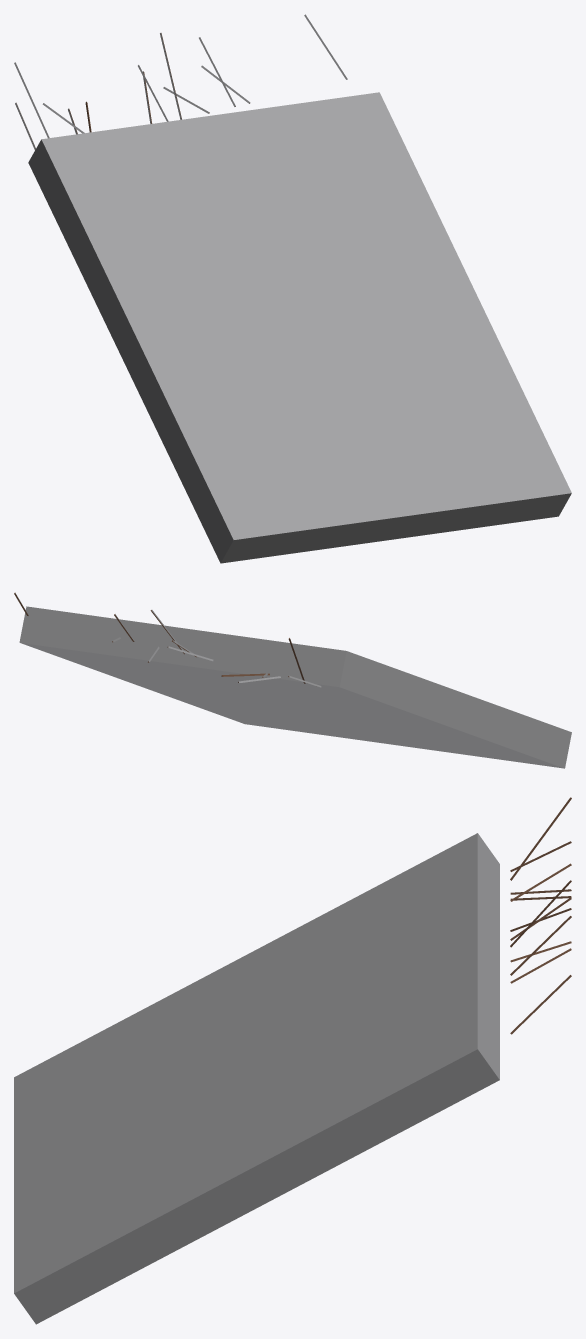
Rendered from v2_bridge_slab.glb.
3 views of the same model, one above another, from view 1: azimuth 30°, elevation 25°; view 2: azimuth 150°, elevation 25°; view 3: azimuth 270°, elevation 25° (orthographic). The views are drawn at different scales.
Visible parts, largest first — view 1: v2_bridge_slab; view 2: v2_bridge_slab; view 3: v2_bridge_slab.
Boxes of the visible parts, box(x1,y1,x2,y2) form: v2_bridge_slab: box(14, 14, 571, 563); v2_bridge_slab: box(14, 592, 571, 768); v2_bridge_slab: box(14, 797, 571, 1324).
Size of the model in its own units: 7.49 by 6.79 by 9.23.
